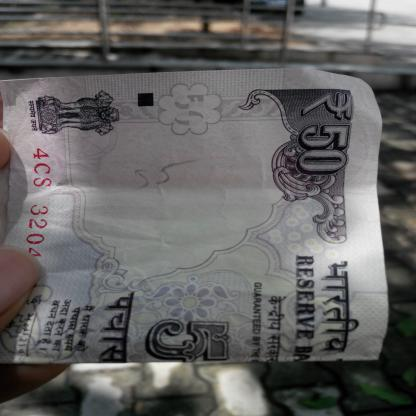Old50Front: (0, 67, 389, 364)
